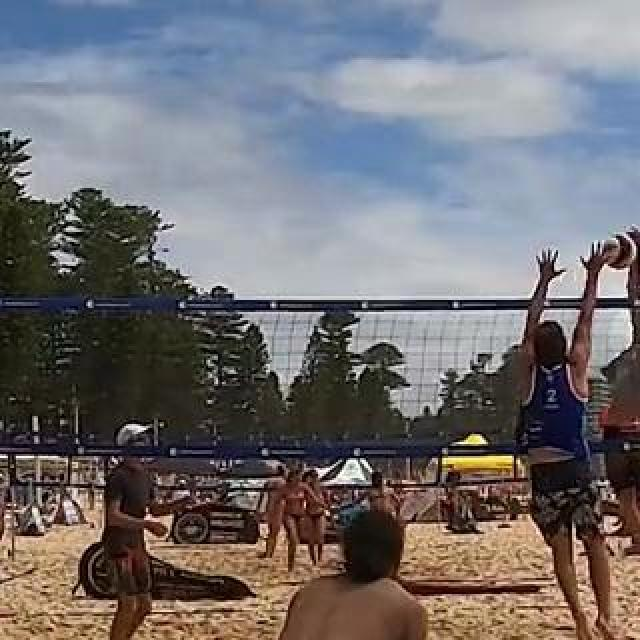volleyball: (604, 234, 638, 268)
